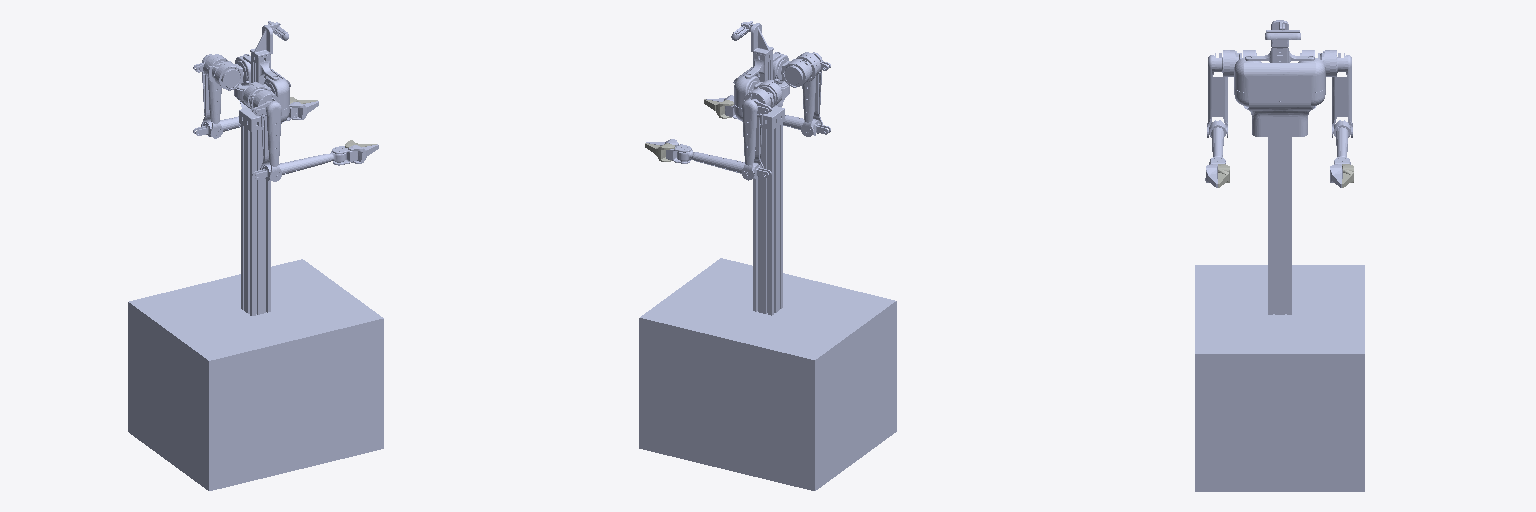
The robot description file, URDF, robot "RobotBimanualV4":
<?xml version="1.0" encoding="utf-8"?>
<!-- This URDF was automatically created by SolidWorks to URDF Exporter! Originally created by [author] ([email redacted]) 
     Commit Version: 1.6.0-4-g7f85cfe  Build Version: 1.6.7995.38578
     For more information, please see http://wiki.ros.org/sw_urdf_exporter -->
<robot
  name="RobotBimanualV4">
  <link name="base_link_mobile">
    <inertial>
      <mass value="0.0"/>
      <origin rpy="0 0 0" xyz="0 0 0"/>
      <inertia ixx="0.0" ixy="0.0" ixz="0.0" iyy="0.0" iyz="0.0" izz="0.0"/>
    </inertial>
  </link>
  <joint name="base_link-base_link_inertia" type="fixed">
    <parent link="base_link_mobile"/>
    <child link="base_link"/>
    <origin rpy="0 0 0" xyz="0 0 0"/>
  </joint>
  <link
    name="base_link">
    <inertial>
      <origin
        xyz="0.00507379776771603 0.000344479206440096 0.493021917987909"
        rpy="0 0 0" />
      <mass
        value="6.48543411303863" />
      <inertia
        ixx="0.337312998632581"
        ixy="-7.79460815808494E-06"
        ixz="-0.00341337207209014"
        iyy="0.336184764674995"
        iyz="2.35532268575879E-05"
        izz="0.00769415237418266" />
    </inertial>
    <visual>
      <origin
        xyz="0 0 0"
        rpy="0 0 0" />
      <geometry>
        <!-- <mesh
          filename="package://RobotBimanualV4//visual/base_link.obj" /> -->
        <mesh
          filename="package://RobotBimanualV4//visual/base_mobile.obj" />
      </geometry>
      <material
        name="">
        <color
          rgba="0.792156862745098 0.819607843137255 0.933333333333333 1" />
      </material>
    </visual>
    <collision>
      <origin
        xyz="0 0 0"
        rpy="0 0 0" />
      <geometry>
        <!-- <mesh
          filename="package://RobotBimanualV4//collision/cvx_base_link.obj" /> -->
        <mesh
          filename="package://RobotBimanualV4//cvx/0_coacd/base_mobile.obj" />
      </geometry>
    </collision>
  </link>
  <link
    name="link1">
    <inertial>
      <origin
        xyz="0.00277367 6.161E-05 0.05165334"
        rpy="0 0 0" />
      <mass
        value="0.706" />
      <inertia
        ixx="0.00074611"
        ixy="5.4E-07"
        ixz="5.3E-07"
        iyy="0.00054009"
        iyz="3.26E-06"
        izz="0.00050643" />
    </inertial>
    <visual>
      <origin
        xyz="0 0 0"
        rpy="0 0 0" />
      <geometry>
        <mesh
          filename="package://RobotBimanualV4//visual/link1.obj" />
      </geometry>
      <material
        name="">
        <color
          rgba="0.79216 0.81961 0.93333 1" />
      </material>
    </visual>
    <collision>
      <origin
        xyz="0 0 0"
        rpy="0 0 0" />
      <geometry>
        <mesh
          filename="package://RobotBimanualV4//collision/cvx_link1.obj" />
      </geometry>
    </collision>
  </link>
  <joint
    name="joint1"
    type="revolute">
    <origin
      xyz="0.02 0.1036 0.8358"
      rpy="0 0 0" />
    <parent
      link="base_link" />
    <child
      link="link1" />
    <axis
      xyz="0 0 1" />
    <limit
      lower="-1.57079633"
      upper="0.87266463"
      effort="4"
      velocity="10.0" />
  </joint>
  <link
    name="link2">
    <inertial>
      <origin
        xyz="-0.00124394 -5.732E-05 0.0545228"
        rpy="0 0 0" />
      <mass
        value="0.659" />
      <inertia
        ixx="0.00064807"
        ixy="8.3E-07"
        ixz="-4.6E-07"
        iyy="0.00045162"
        iyz="-1.01E-06"
        izz="0.00043422" />
    </inertial>
    <visual>
      <origin
        xyz="0 0 0"
        rpy="0 0 0" />
      <geometry>
        <mesh
          filename="package://RobotBimanualV4//visual/link2.obj" />
      </geometry>
      <material
        name="">
        <color
          rgba="0.79216 0.81961 0.93333 1" />
      </material>
    </visual>
    <collision>
      <origin
        xyz="0 0 0"
        rpy="0 0 0" />
      <geometry>
        <mesh
          filename="package://RobotBimanualV4//collision/cvx_link2.obj" />
      </geometry>
    </collision>
  </link>
  <joint
    name="joint2"
    type="revolute">
    <origin
      xyz="-0.02205 0 0.0528"
      rpy="-1.5708 0 1.5708" />
    <parent
      link="link1" />
    <child
      link="link2" />
    <axis
      xyz="0 0 1" />
    <limit
      lower="-1.57079633"
      upper="1.3962634"
      effort="4"
      velocity="10.0" />
  </joint>
  <link
    name="link3">
    <inertial>
      <origin
        xyz="-0.03505493 -0.006151 0.05438578"
        rpy="0 0 0" />
      <mass
        value="1.095" />
      <inertia
        ixx="0.00161847"
        ixy="0.00042205"
        ixz="-0.00104433"
        iyy="0.0066165"
        iyz="-0.0001917"
        izz="0.00653551" />
    </inertial>
    <visual>
      <origin
        xyz="0 0 0"
        rpy="0 0 0" />
      <geometry>
        <mesh
          filename="package://RobotBimanualV4//visual/link3.obj" />
      </geometry>
      <material
        name="">
        <color
          rgba="0.79216 0.81961 0.93333 1" />
      </material>
    </visual>
    <collision>
      <origin
        xyz="0 0 0"
        rpy="0 0 0" />
      <geometry>
        <mesh
          filename="package://RobotBimanualV4//collision/cvx_link3.obj" />
      </geometry>
    </collision>
  </link>
  <joint
    name="joint3"
    type="revolute">
    <origin
      xyz="0.023 0 0.0565"
      rpy="-1.5708 0 -1.5708" />
    <parent
      link="link2" />
    <child
      link="link3" />
    <axis
      xyz="0 0 1" />
    <limit
      lower="-3.14159265"
      upper="1.3962634"
      effort="4"
      velocity="10.0" />
  </joint>
  <link
    name="link4">
    <inertial>
      <origin
        xyz="-0.00914828 -0.00042727 -7.12E-06"
        rpy="0 0 0" />
      <mass
        value="0.268" />
      <inertia
        ixx="9.136E-05"
        ixy="7E-08"
        ixz="-2E-08"
        iyy="0.00013894"
        iyz="0"
        izz="0.00013031" />
    </inertial>
    <visual>
      <origin
        xyz="0 0 0"
        rpy="0 0 0" />
      <geometry>
        <mesh
          filename="package://RobotBimanualV4//visual/link4.obj" />
      </geometry>
      <material
        name="">
        <color
          rgba="0.79216 0.81961 0.93333 1" />
      </material>
    </visual>
    <collision>
      <origin
        xyz="0 0 0"
        rpy="0 0 0" />
      <geometry>
        <mesh
          filename="package://RobotBimanualV4//collision/cvx_link4.obj" />
      </geometry>
    </collision>
  </link>
  <joint
    name="joint4"
    type="revolute">
    <origin
      xyz="-0.25 0 0.08318"
      rpy="0 0 1.5708" />
    <parent
      link="link3" />
    <child
      link="link4" />
    <axis
      xyz="0 0 1" />
    <limit
      lower="-0.78539816"
      upper="1.30899694"
      effort="4"
      velocity="10.0" />
  </joint>
  <link
    name="link5">
    <inertial>
      <origin
        xyz="-0.00143459 -5.019E-05 0.22261684"
        rpy="0 0 0" />
      <mass
        value="0.285" />
      <inertia
        ixx="0.00170458"
        ixy="1.5E-07"
        ixz="-2.111E-05"
        iyy="0.00168732"
        iyz="-5.6E-07"
        izz="7.029E-05" />
    </inertial>
    <visual>
      <origin
        xyz="0 0 0"
        rpy="0 0 0" />
      <geometry>
        <mesh
          filename="package://RobotBimanualV4//visual/link5.obj" />
      </geometry>
      <material
        name="">
        <color
          rgba="0.79216 0.81961 0.93333 1" />
      </material>
    </visual>
    <collision>
      <origin
        xyz="0 0 0"
        rpy="0 0 0" />
      <geometry>
        <mesh
          filename="package://RobotBimanualV4//collision/cvx_link5.obj" />
      </geometry>
    </collision>
  </link>
  <joint
    name="joint5"
    type="revolute">
    <origin
      xyz="0.014 0.00010349 0"
      rpy="-1.5708 0 -1.5708" />
    <parent
      link="link4" />
    <child
      link="link5" />
    <axis
      xyz="0 0 1" />
    <limit
      lower="-3.66519143"
      upper="3.66519143"
      effort="1"
      velocity="15.0" />
  </joint>
  <link
    name="link6">
    <inertial>
      <origin
        xyz="0.00013661 0.032632 -0.015041"
        rpy="0 0 0" />
      <mass
        value="0.10024" />
      <inertia
        ixx="3.6405E-05"
        ixy="2.2542E-07"
        ixz="-1.3425E-07"
        iyy="2.5551E-05"
        iyz="-4.2981E-07"
        izz="4.9498E-05" />
    </inertial>
    <visual>
      <origin
        xyz="0 0 0"
        rpy="0 0 0" />
      <geometry>
        <mesh
          filename="package://gripper_urdf/meshes/link6.STL" />
      </geometry>
      <material
        name="">
        <color
          rgba="0.79216 0.81961 0.93333 1" />
      </material>
    </visual>
    <collision>
      <origin
        xyz="0 0 0"
        rpy="0 0 0" />
      <geometry>
        <mesh
          filename="package://gripper_urdf/meshes/link6.STL" />
      </geometry>
    </collision>
  </link>
  <joint
    name="joint6"
    type="revolute">
    <origin
      xyz="0.012203 0 0.2634"
      rpy="1.5708 0 1.5708" />
    <parent
      link="link5" />
    <child
      link="link6" />
    <axis
      xyz="0 0 1" />
    <limit
      lower="-2.18166156"
      upper="2.18166156"
      effort="1"
      velocity="15.0" />
  </joint>
  <link
    name="link7">
    <inertial>
      <origin
        xyz="0.00239406 -0.00016204 0.05155291"
        rpy="0 0 0" />
      <mass
        value="0.706" />
      <inertia
        ixx="0.00074592"
        ixy="-2.03E-06"
        ixz="-1.52E-06"
        iyy="0.00053798"
        iyz="-3.35E-06"
        izz="0.00050821" />
    </inertial>
    <visual>
      <origin
        xyz="0 0 0"
        rpy="0 0 0" />
      <geometry>
        <mesh
          filename="package://RobotBimanualV4//visual/link7.obj" />
      </geometry>
      <material
        name="">
        <color
          rgba="0.79216 0.81961 0.93333 1" />
      </material>
    </visual>
    <collision>
      <origin
        xyz="0 0 0"
        rpy="0 0 0" />
      <geometry>
        <mesh
          filename="package://RobotBimanualV4//collision/cvx_link7.obj" />
      </geometry>
    </collision>
  </link>
  <joint
    name="joint7"
    type="revolute">
    <origin
      xyz="0.02 -0.1036 0.8358"
      rpy="0 0 0" />
    <parent
      link="base_link" />
    <child
      link="link7" />
    <axis
      xyz="0 0 1" />
    <limit
      lower="-0.87266463"
      upper="1.57079633"
      effort="4"
      velocity="10.00" />  
  </joint>
  <link
    name="link8">
    <inertial>
      <origin
        xyz="-0.00124394 7.606E-05 0.05454155"
        rpy="0 0 0" />
      <mass
        value="0.659" />
      <inertia
        ixx="0.00064811"
        ixy="-1.1E-06"
        ixz="-7.3E-07"
        iyy="0.0004522"
        iyz="1.03E-06"
        izz="0.00043369" />
    </inertial>
    <visual>
      <origin
        xyz="0 0 0"
        rpy="0 0 0" />
      <geometry>
        <mesh
          filename="package://RobotBimanualV4//visual/link8.obj" />
      </geometry>
      <material
        name="">
        <color
          rgba="0.79216 0.81961 0.93333 1" />
      </material>
    </visual>
    <collision>
      <origin
        xyz="0 0 0"
        rpy="0 0 0" />
      <geometry>
        <mesh
          filename="package://RobotBimanualV4//collision/cvx_link8.obj" />
      </geometry>
    </collision>
  </link>
  <joint
    name="joint8"
    type="revolute">
    <origin
      xyz="-0.02205 0 0.0528"
      rpy="1.5708 0 -1.5708" />
    <parent
      link="link7" />
    <child
      link="link8" />
    <axis
      xyz="0 0 1" />
    <limit
      lower="-1.3962634"
      upper="1.57079633"
      effort="4"
      velocity="10.00" />
  </joint>
  <link
    name="link9">
    <inertial>
      <origin
        xyz="-0.03505563 0.00468094 0.05453087"
        rpy="0 0 0" />
      <mass
        value="1.095" />
      <inertia
        ixx="0.00161845"
        ixy="-0.00039365"
        ixz="-0.00105521"
        iyy="0.00662637"
        iyz="0.00018923"
        izz="0.00652496" />
    </inertial>
    <visual>
      <origin
        xyz="0 0 0"
        rpy="0 0 0" />
      <geometry>
        <mesh
          filename="package://RobotBimanualV4//visual/link9.obj" />
      </geometry>
      <material
        name="">
        <color
          rgba="0.79216 0.81961 0.93333 1" />
      </material>
    </visual>
    <collision>
      <origin
        xyz="0 0 0"
        rpy="0 0 0" />
      <geometry>
        <mesh
          filename="package://RobotBimanualV4//collision/cvx_link9.obj" />
      </geometry>
    </collision>
  </link>
  <joint
    name="joint9"
    type="revolute">
    <origin
      xyz="0.023 0 0.0565"
      rpy="1.5708 0 1.5708" />
    <parent
      link="link8" />
    <child
      link="link9" />
    <axis
      xyz="0 0 1" />
    <limit
      lower="-1.3962634"
      upper="3.14159265"
      effort="4"
      velocity="10.00" />
  </joint>
  <link
    name="link10">
    <inertial>
      <origin
        xyz="-0.00914828 -0.00042727 7.13E-06"
        rpy="0 0 0" />
      <mass
        value="0.268" />
      <inertia
        ixx="9.136E-05"
        ixy="7E-08"
        ixz="2E-08"
        iyy="0.00013894"
        iyz="0"
        izz="0.00013031" />
    </inertial>
    <visual>
      <origin
        xyz="0 0 0"
        rpy="0 0 0" />
      <geometry>
        <mesh
          filename="package://RobotBimanualV4//visual/link10.obj" />
      </geometry>
      <material
        name="">
        <color
          rgba="0.79216 0.81961 0.93333 1" />
      </material>
    </visual>
    <collision>
      <origin
        xyz="0 0 0"
        rpy="0 0 0" />
      <geometry>
        <mesh
          filename="package://RobotBimanualV4//collision/cvx_link10.obj" />
      </geometry>
    </collision>
  </link>
  <joint
    name="joint10"
    type="revolute">
    <origin
      xyz="-0.25 0 0.08318"
      rpy="-3.1416 0 -1.5708" />
    <parent
      link="link9" />
    <child
      link="link10" />
    <axis
      xyz="0 0 1" />
    <limit
      lower="-1.30899694"
      upper="0.78539816"
      effort="4"
      velocity="10.00" />
  </joint>
  <link
    name="link11">
    <inertial>
      <origin
        xyz="-0.00143459 -5.019E-05 0.22261684"
        rpy="0 0 0" />
      <mass
        value="0.285" />
      <inertia
        ixx="0.00170458"
        ixy="1.5E-07"
        ixz="-2.111E-05"
        iyy="0.00168732"
        iyz="-5.6E-07"
        izz="7.029E-05" />
    </inertial>
    <visual>
      <origin
        xyz="0 0 0"
        rpy="0 0 0" />
      <geometry>
        <mesh
          filename="package://RobotBimanualV4//visual/link11.obj" />
      </geometry>
      <material
        name="">
        <color
          rgba="0.79216 0.81961 0.93333 1" />
      </material>
    </visual>
    <collision>
      <origin
        xyz="0 0 0"
        rpy="0 0 0" />
      <geometry>
        <mesh
          filename="package://RobotBimanualV4//collision/cvx_link11.obj" />
      </geometry>
    </collision>
  </link>
  <joint
    name="joint11"
    type="revolute">
    <origin
      xyz="0.014 0.00010349 0"
      rpy="-1.5708 0 -1.5708" />
    <parent
      link="link10" />
    <child
      link="link11" />
    <axis
      xyz="0 0 1" />
    <limit
      lower="-3.66519143"
      upper="1.91986218"
      effort="1"
      velocity="15.00" />
  </joint>
  <link
    name="link12">
    <inertial>
      <origin
        xyz="0.00013661 0.032632 -0.015041"
        rpy="0 0 0" />
      <mass
        value="0.10024" />
      <inertia
        ixx="3.6405E-05"
        ixy="2.2542E-07"
        ixz="-1.3425E-07"
        iyy="2.5551E-05"
        iyz="-4.2981E-07"
        izz="4.9498E-05" />
    </inertial>
    <visual>
      <origin
        xyz="0 0 0"
        rpy="0 0 0" />
      <geometry>
        <mesh
          filename="package://gripper_urdf/meshes/link6.STL" />
      </geometry>
      <material
        name="">
        <color
          rgba="0.79216 0.81961 0.93333 1" />
      </material>
    </visual>
    <collision>
      <origin
        xyz="0 0 0"
        rpy="0 0 0" />
      <geometry>
        <mesh
          filename="package://gripper_urdf/meshes/link6.STL" />
      </geometry>
    </collision>
  </link>
  <joint
    name="joint12"
    type="revolute">
    <origin
      xyz="0.012203 0 0.2634"
      rpy="1.5708 0 1.5708" />
    <parent
      link="link11" />
    <child
      link="link12" />
    <axis
      xyz="0 0 1" />
    <limit
      lower="-2.18166156"
      upper="2.18166156"
      effort="1"
      velocity="15.0" />
  </joint>

  <!-- hand attached to link 6 -->
  <link
    name="finger1_link">
    <inertial>
      <origin
        xyz="0.00715155519277111 0.0317897449447876 -0.022639994299902"
        rpy="0 0 0" />
      <mass
        value="0.0434439521158079" />
      <inertia
        ixx="1.61853165636498E-05"
        ixy="-8.29742557186773E-07"
        ixz="2.83702473101179E-08"
        iyy="7.96070872508349E-06"
        iyz="2.10305920009734E-07"
        izz="1.59719393438006E-05" />
    </inertial>
    <visual>
      <origin
        xyz="0 0 0"
        rpy="0 0 0" />
      <geometry>
        <mesh
          filename="package://gripper_urdf/meshes/finger1_link.obj" />
      </geometry>
      <material
        name="">
        <color
          rgba="0.792156862745098 0.819607843137255 0.933333333333333 1" />
      </material>
    </visual>
    <collision>
      <origin
        xyz="0 0 0"
        rpy="0 0 0" />
      <geometry>
        <mesh
          filename="package://gripper_urdf/cvx/7_coacd/finger1_link.obj" />
      </geometry>
    </collision>
  </link>
  <joint
    name="finger1_joint"
    type="revolute">
    <origin
      xyz="0.01225 0.046 0.009"
      rpy="0 0 0" />
    <parent
      link="link6" />
    <child
      link="finger1_link" />
    <axis
      xyz="0 0 1" />
    <limit
      lower="-1"
      upper="0"
      effort="0"
      velocity="0" />
  </joint>
  <link
    name="finger2_link">
    <inertial>
      <origin
        xyz="-0.0071525 0.031874 -0.022696"
        rpy="0 0 0" />
      <mass
        value="0.043258" />
      <inertia
        ixx="1.6034E-05"
        ixy="7.6046E-07"
        ixz="-9.2887E-09"
        iyy="7.9067E-06"
        iyz="1.7744E-07"
        izz="1.5799E-05" />
    </inertial>
    <visual>
      <origin
        xyz="0 0 0"
        rpy="0 0 0" />
      <geometry>
        <mesh
          filename="package://gripper_urdf/meshes/finger2_link.obj" />
      </geometry>
      <material
        name="">
        <color
          rgba="0.75686 0.76863 0.75294 1" />
      </material>
    </visual>
    <collision>
      <origin
        xyz="0 0 0"
        rpy="0 0 0" />
      <geometry>
        <mesh
          filename="package://gripper_urdf/cvx/7_coacd/finger2_link.obj" />
      </geometry>
    </collision>
  </link>
  <joint
    name="finger2_joint"
    type="revolute">
    <origin
      xyz="-0.01225 0.046 0.009"
      rpy="0 0 0" />
    <parent
      link="link6" />
    <child
      link="finger2_link" />
    <axis
      xyz="0 0 1" />
    <limit
      lower="0"
      upper="1"
      effort="0"
      velocity="0" />
  </joint>


  <!-- hand attached to link 12 -->
  <link
    name="finger3_link">
    <inertial>
      <origin
        xyz="0.00715155519277111 0.0317897449447876 -0.022639994299902"
        rpy="0 0 0" />
      <mass
        value="0.0434439521158079" />
      <inertia
        ixx="1.61853165636498E-05"
        ixy="-8.29742557186773E-07"
        ixz="2.83702473101179E-08"
        iyy="7.96070872508349E-06"
        iyz="2.10305920009734E-07"
        izz="1.59719393438006E-05" />
    </inertial>
    <visual>
      <origin
        xyz="0 0 0"
        rpy="0 0 0" />
      <geometry>
        <mesh
          filename="package://gripper_urdf/meshes/finger1_link.obj" />
      </geometry>
      <material
        name="">
        <color
          rgba="0.792156862745098 0.819607843137255 0.933333333333333 1" />
      </material>
    </visual>
    <collision>
      <origin
        xyz="0 0 0"
        rpy="0 0 0" />
      <geometry>
        <mesh
          filename="package://gripper_urdf/cvx/7_coacd/finger1_link.obj" />
      </geometry>
    </collision>
  </link>
  <joint
    name="finger3_joint"
    type="revolute">
    <origin
      xyz="0.01225 0.046 0.009"
      rpy="0 0 0" />
    <parent
      link="link12" />
    <child
      link="finger3_link" />
    <axis
      xyz="0 0 1" />
    <limit
      lower="-1"
      upper="0"
      effort="0"
      velocity="0" />
  </joint>
  <link
    name="finger4_link">
    <inertial>
      <origin
        xyz="-0.0071525 0.031874 -0.022696"
        rpy="0 0 0" />
      <mass
        value="0.043258" />
      <inertia
        ixx="1.6034E-05"
        ixy="7.6046E-07"
        ixz="-9.2887E-09"
        iyy="7.9067E-06"
        iyz="1.7744E-07"
        izz="1.5799E-05" />
    </inertial>
    <visual>
      <origin
        xyz="0 0 0"
        rpy="0 0 0" />
      <geometry>
        <mesh
          filename="package://gripper_urdf/meshes/finger2_link.obj" />
      </geometry>
      <material
        name="">
        <color
          rgba="0.75686 0.76863 0.75294 1" />
      </material>
    </visual>
    <collision>
      <origin
        xyz="0 0 0"
        rpy="0 0 0" />
      <geometry>
        <mesh
          filename="package://gripper_urdf/cvx/7_coacd/finger2_link.obj" />
      </geometry>
    </collision>
  </link>
  <joint
    name="finger4_joint"
    type="revolute">
    <origin
      xyz="-0.01225 0.046 0.009"
      rpy="0 0 0" />
    <parent
      link="link12" />
    <child
      link="finger4_link" />
    <axis
      xyz="0 0 1" />
    <limit
      lower="0"
      upper="1"
      effort="0"
      velocity="0" />
  </joint>
</robot>

--- What the picture shows (computed from the rendered views, not written in the file) ---
3 views of the same robot in one strip: view 1: azimuth 30°, elevation 25°; view 2: azimuth 150°, elevation 25°; view 3: azimuth 270°, elevation 25° (orthographic).
Model RobotBimanualV4 with 18 links and 17 joints (16 revolute, 1 fixed), rooted at base_link_mobile, posed all joints at 0.
Links seen in each view (by area): view 1: base_link, link9, link3, link11, link2; view 2: base_link, link3, link9, link5, link8; view 3: base_link, link3, link9.
Boxes of the visible links, x1,y1,x2,y2 form: base_link: [128, 21, 383, 490]; link9: [250, 90, 281, 181]; link3: [193, 54, 231, 138]; link11: [279, 151, 346, 174]; link2: [215, 62, 243, 90]; base_link: [639, 21, 896, 490]; link3: [742, 88, 773, 180]; link9: [793, 52, 830, 136]; link5: [677, 150, 744, 173]; link8: [781, 59, 809, 87]; base_link: [1195, 20, 1364, 491]; link3: [1318, 50, 1352, 137]; link9: [1207, 50, 1241, 137].
Bounding box of the posed robot: 0.7363 × 0.575 × 1.61 m (x, y, z).
17 mesh visuals loaded from 14 distinct referenced files (1 binary STL, 13 OBJ).
